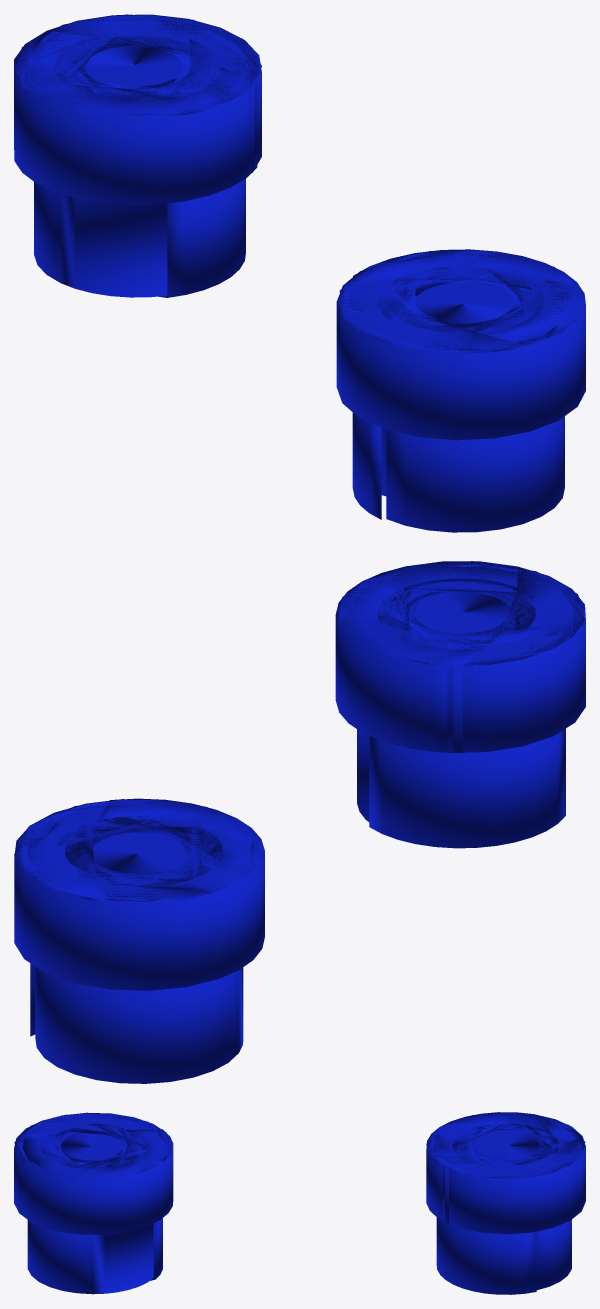
Rendered from tuyeau_element_000030.obj.
3 renders of one model, top to bottom at view 1: azimuth 30°, elevation 25°; view 2: azimuth 150°, elevation 25°; view 3: azimuth 270°, elevation 25°, orthographic. The views are drawn at different scales.
Parts seen in each view (by area): view 1: tuyeau2_Cube.017, tuyeau1_Cube.014; view 2: tuyeau2_Cube.017, tuyeau1_Cube.014; view 3: tuyeau1_Cube.014, tuyeau2_Cube.017.
Part boxes in pixels (box(x1,y1,x2,y2)): tuyeau2_Cube.017: box(336, 249, 585, 532); tuyeau1_Cube.014: box(14, 14, 261, 297); tuyeau2_Cube.017: box(335, 561, 585, 848); tuyeau1_Cube.014: box(14, 798, 264, 1083); tuyeau1_Cube.014: box(426, 1112, 585, 1294); tuyeau2_Cube.017: box(14, 1112, 173, 1294).
Size of the model in its own units: 3549 by 2917 by 12629.
